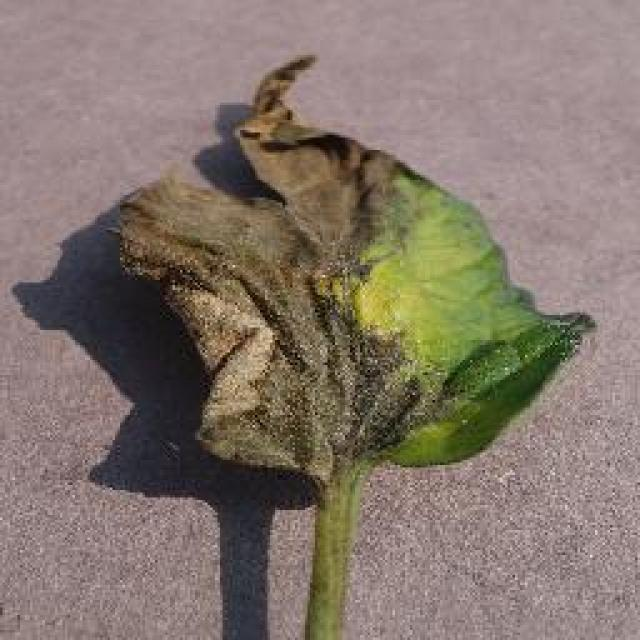Tomato___Late_blight: (107, 48, 599, 638)
